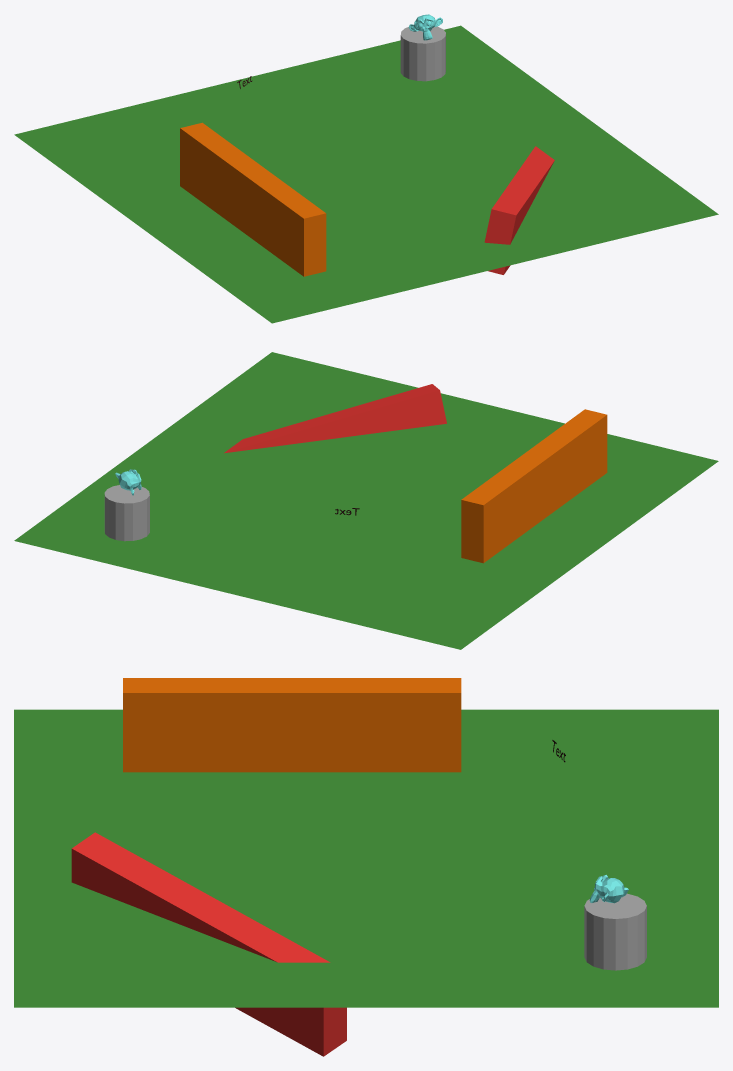
Rendered from playground.glb.
The picture shows the model from 3 angles, top to bottom: view 1: azimuth 30°, elevation 25°; view 2: azimuth 150°, elevation 25°; view 3: azimuth 270°, elevation 25°; orthographic projection. The views are drawn at different scales.
Parts seen in each view (by area): view 1: Plane, Cube, Cube.001, Cylinder; view 2: Plane, Cube, Cube.001, Cylinder; view 3: Plane, Cube, Cube.001, Cylinder, Suzanne.
Part boxes in pixels (box(x1,y1,x2,y2)): Plane: box(14, 25, 718, 323); Cube: box(180, 122, 326, 276); Cube.001: box(484, 146, 554, 274); Cylinder: box(400, 26, 445, 81); Plane: box(14, 352, 718, 649); Cube: box(461, 409, 607, 563); Cube.001: box(224, 384, 446, 453); Cylinder: box(104, 485, 149, 541); Plane: box(14, 709, 718, 1007); Cube: box(123, 678, 461, 772); Cube.001: box(71, 832, 346, 1056); Cylinder: box(584, 893, 646, 970); Suzanne: box(589, 874, 628, 903).
Bounding box in the file's own units: 40 × 10.39 × 40.
